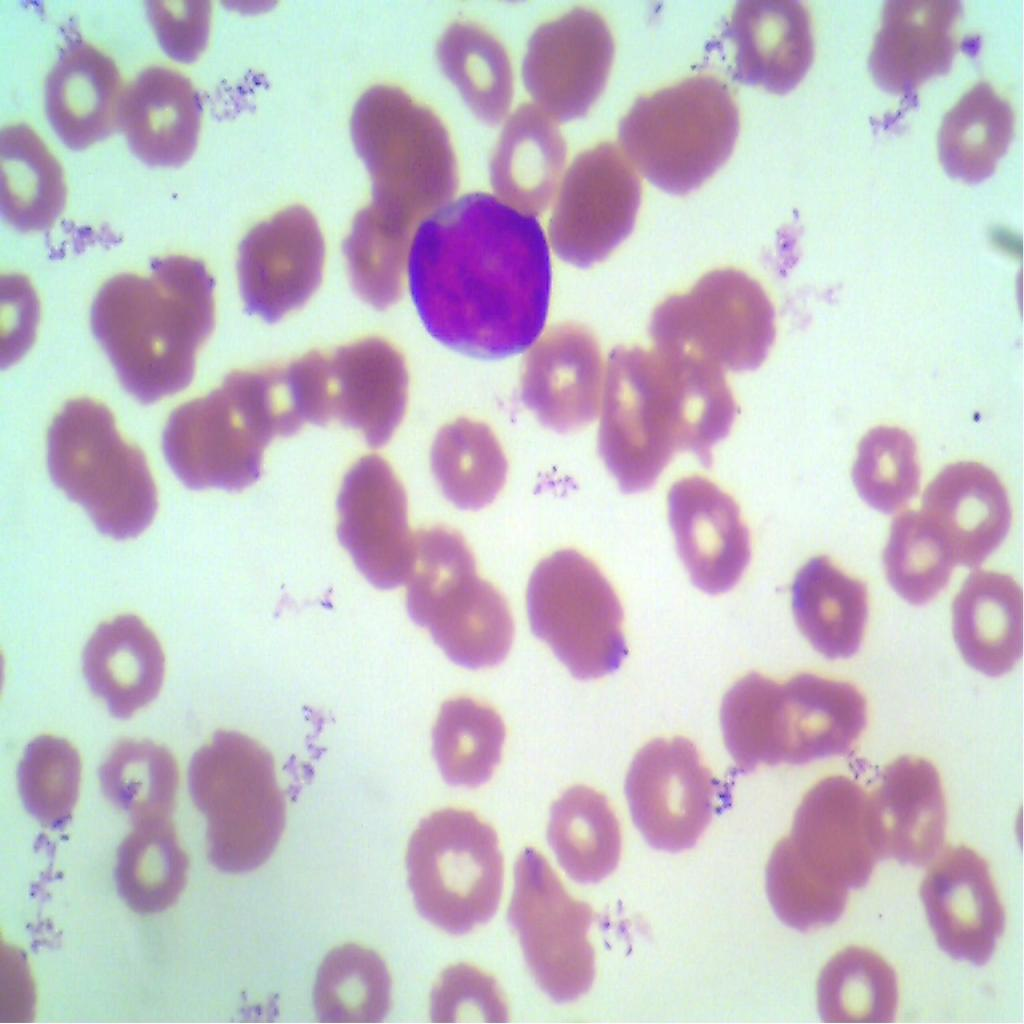Eritrosit: (653, 458, 766, 616), (612, 67, 738, 194), (519, 545, 626, 692), (670, 239, 778, 382), (506, 858, 604, 1004), (231, 195, 329, 328), (359, 97, 462, 221), (36, 34, 138, 155), (402, 802, 498, 930), (331, 447, 418, 588), (581, 349, 666, 492), (619, 728, 716, 852), (522, 5, 618, 124), (639, 343, 733, 462), (788, 536, 878, 658), (426, 8, 518, 124), (554, 141, 638, 268), (859, 0, 959, 103), (926, 844, 1006, 970), (861, 751, 950, 864), (763, 669, 868, 764), (935, 75, 1015, 198), (338, 331, 418, 450), (424, 395, 506, 511), (0, 128, 86, 237), (942, 568, 1023, 682), (494, 97, 570, 218), (922, 455, 1011, 558), (82, 608, 166, 717), (421, 692, 510, 792), (208, 770, 286, 884), (171, 384, 253, 492), (106, 804, 182, 918), (111, 74, 203, 168), (83, 448, 162, 557), (524, 315, 598, 431), (135, 248, 219, 349), (378, 518, 458, 624), (763, 828, 839, 938), (725, 0, 806, 103), (814, 931, 904, 1023), (711, 663, 791, 765), (3, 737, 89, 831), (42, 384, 112, 498), (801, 775, 875, 882), (83, 260, 158, 362), (186, 721, 268, 812), (224, 351, 303, 444), (546, 784, 624, 878), (311, 930, 389, 1023), (124, 312, 198, 410), (882, 506, 950, 611), (336, 201, 403, 305), (843, 423, 916, 512), (446, 586, 516, 678), (106, 737, 173, 821), (292, 337, 354, 426)
Limfoblast: (404, 188, 550, 365)
Platelet: (969, 399, 986, 431)
